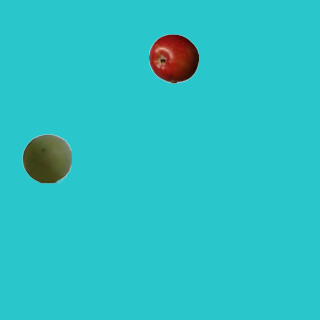Apple Braeburn: (148, 33, 198, 83)
Grape White 4: (21, 133, 71, 183)
